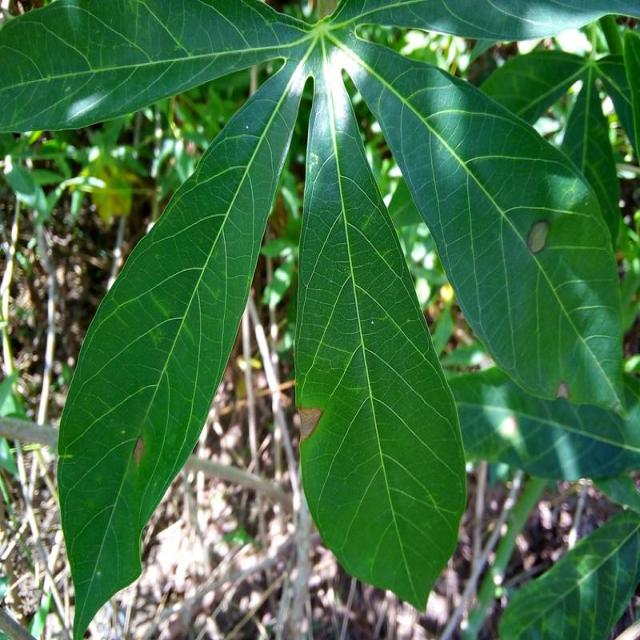cassava leaf: (4, 1, 638, 636), (55, 50, 312, 637), (333, 27, 629, 421), (294, 48, 468, 612)
